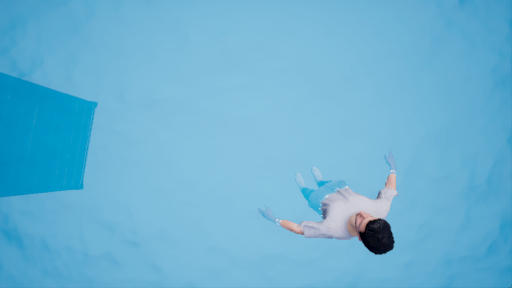person: (266, 159, 409, 274)
